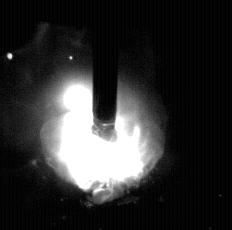arame: (94, 0, 118, 141)
poca: (39, 0, 166, 230)
